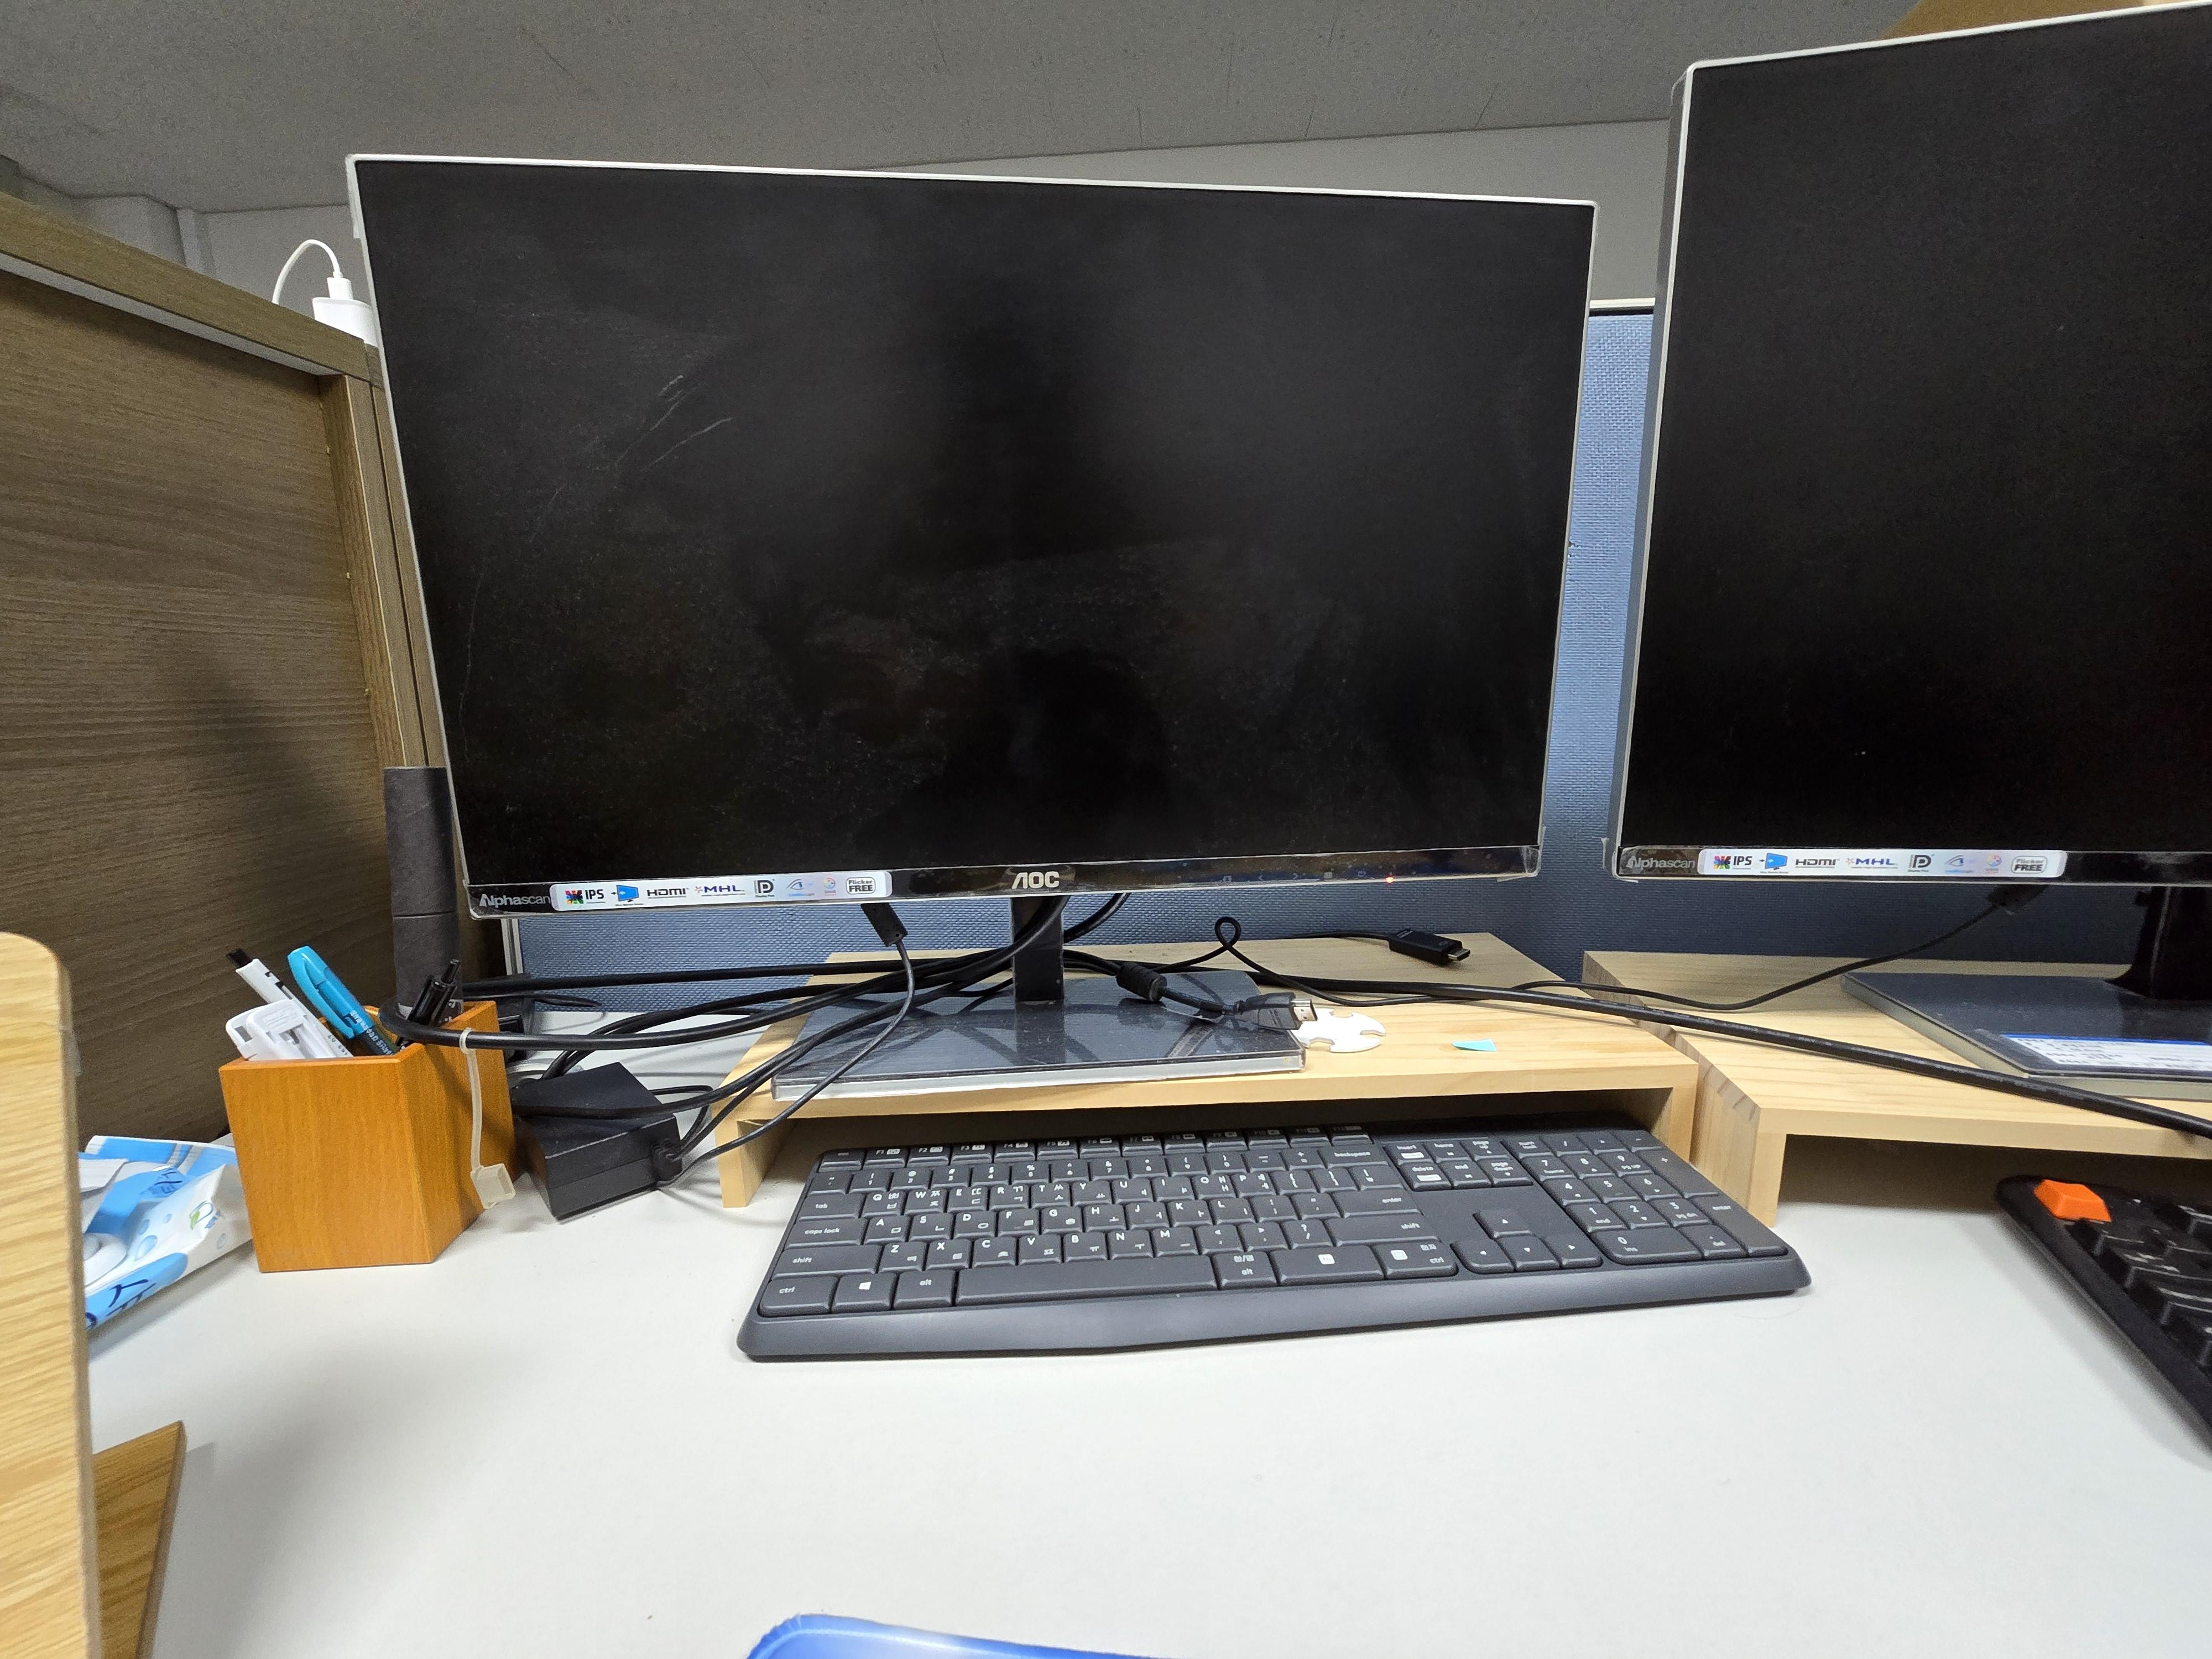keyboard: (737, 1122, 1810, 1361)
